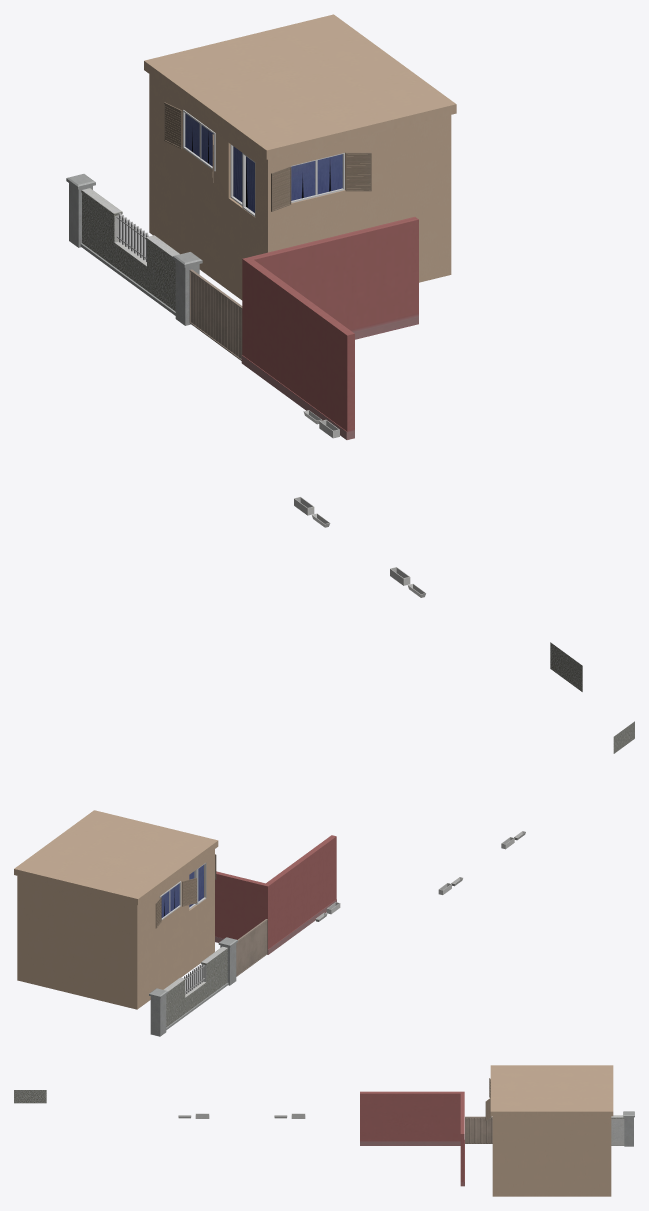
Rendered from house1.glb.
3 views of the same model, one above another, from view 1: azimuth 30°, elevation 25°; view 2: azimuth 150°, elevation 25°; view 3: azimuth 270°, elevation 25° (orthographic). The views are drawn at different scales.
Visible parts, largest first — view 1: Object_10; view 2: Object_10; view 3: Object_10.
Part boxes in pixels (box(x1,y1,x2,y2)): Object_10: box(66, 14, 582, 691); Object_10: box(14, 721, 634, 1036); Object_10: box(14, 1065, 634, 1196).
Bounding box in the file's own units: 11.4 × 5.66 × 35.02.
1 material, 1 textured.
